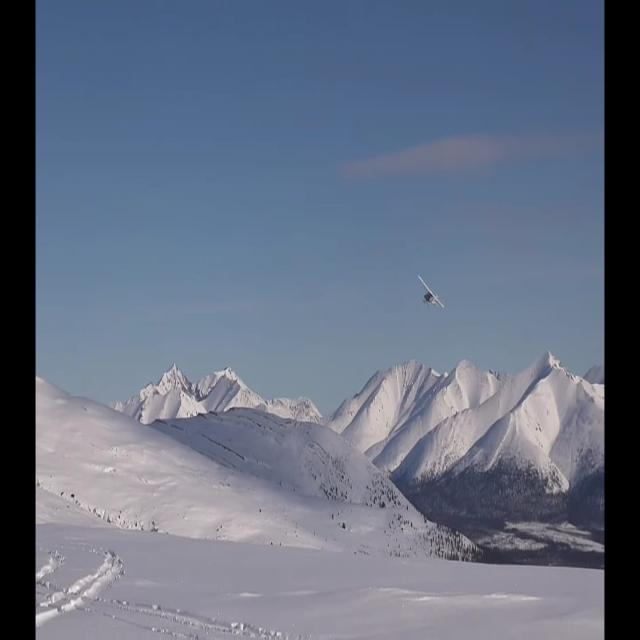iha: (418, 274, 444, 309)
